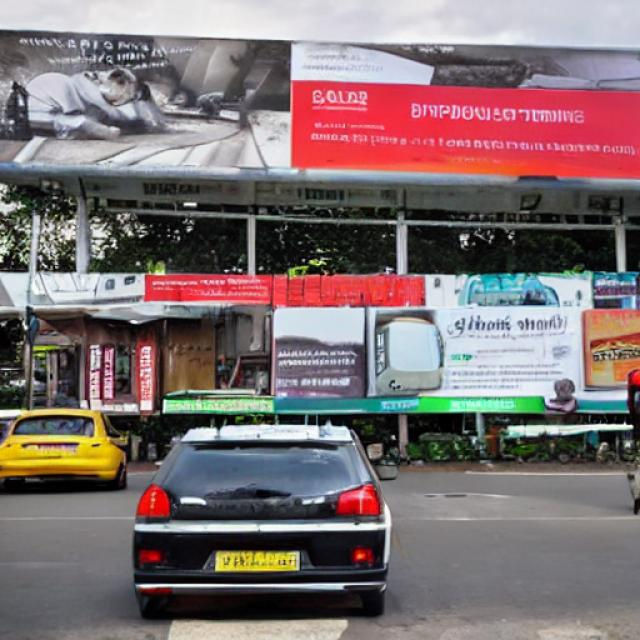Billboard: (2, 23, 640, 193)
Horizontal Billboard: (274, 270, 640, 420)
